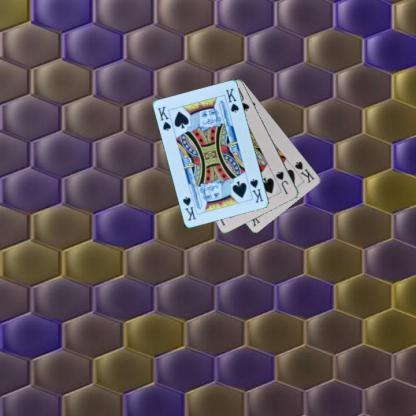Js: (274, 169, 290, 196)
Ks: (292, 158, 316, 184), (248, 176, 264, 205), (156, 104, 172, 132)
